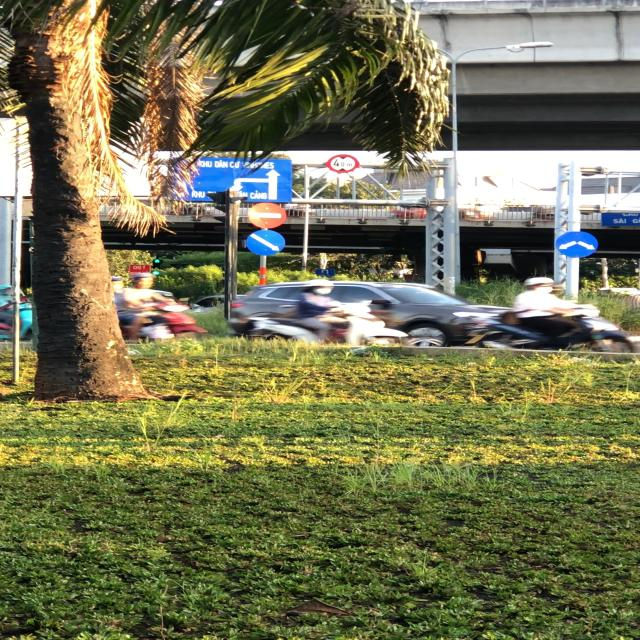Bien bao cam di nguoc chieu: (244, 200, 289, 231)
Bien bao han che chieu cao: (325, 153, 361, 175)
Bien bao huong phai di vong chuong ngai vat: (551, 229, 605, 260), (243, 229, 290, 258)
